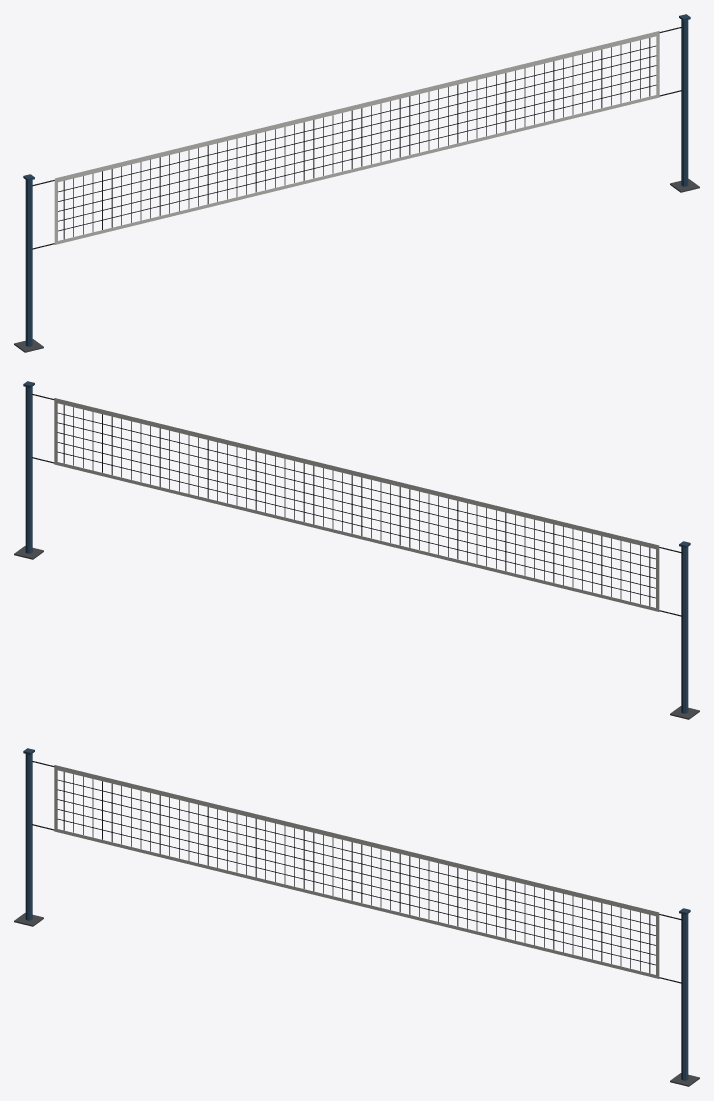
The model's file is sport.volleyball_net.blue.glb.
3 views of the same model, one above another, from view 1: azimuth 30°, elevation 25°; view 2: azimuth 150°, elevation 25°; view 3: azimuth 330°, elevation 25° (orthographic).
Parts seen in each view (by area): view 1: sport_volleyball_net_blue; view 2: sport_volleyball_net_blue; view 3: sport_volleyball_net_blue.
Part boxes in pixels (x1=…): sport_volleyball_net_blue: x1=14, y1=14, x2=699, y2=352; sport_volleyball_net_blue: x1=14, y1=381, x2=699, y2=719; sport_volleyball_net_blue: x1=14, y1=748, x2=699, y2=1086.
Size of what is drawn, in the model's own units: 10.6 by 2.55 by 0.3.
